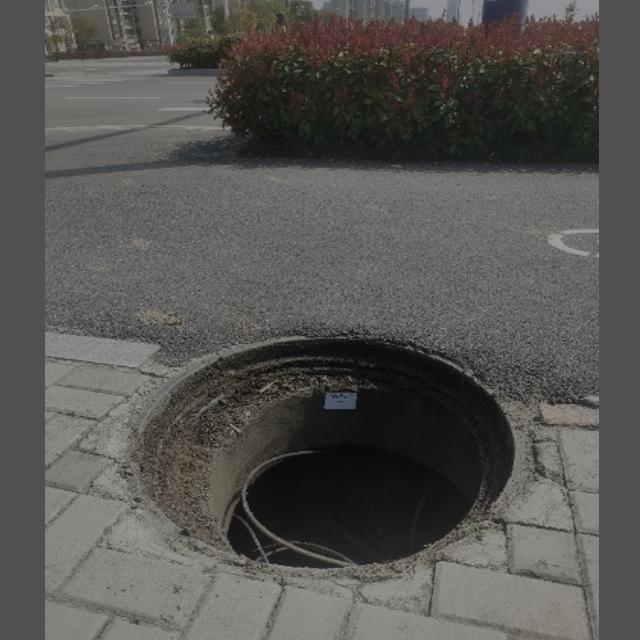lose: (122, 333, 527, 578)
